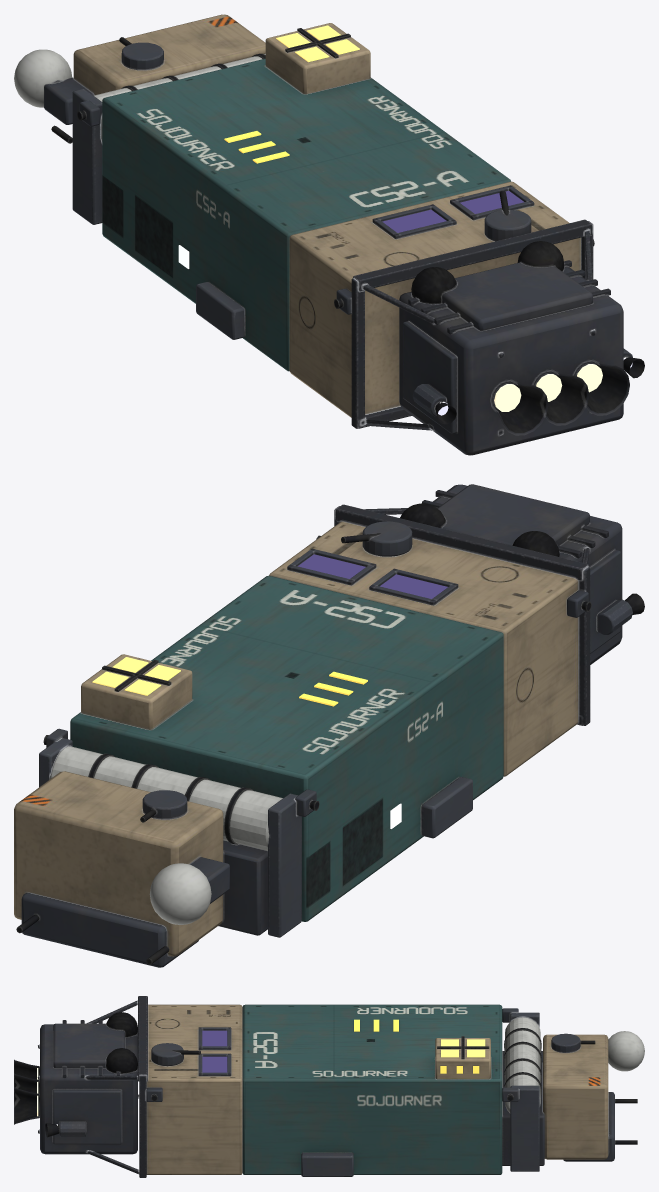
File: sojourner_cs2a.glb
3 views of the same model, one above another, from view 1: azimuth 30°, elevation 25°; view 2: azimuth 150°, elevation 25°; view 3: azimuth 270°, elevation 25° (orthographic). The views are drawn at different scales.
Visible parts, largest first — view 1: Hull, Glow; view 2: Hull, Glow; view 3: Hull, Glow.
Part boxes in pixels (box(x1,y1,x2,y2)): Hull: box(14, 14, 644, 455); Glow: box(178, 25, 632, 415); Hull: box(14, 484, 644, 967); Glow: box(92, 554, 447, 828); Hull: box(14, 996, 644, 1177); Glow: box(37, 1019, 485, 1125).
Size of the model in its own units: 6.26 by 3.96 by 19.32.
Materials: 7 (1 with a texture image).
